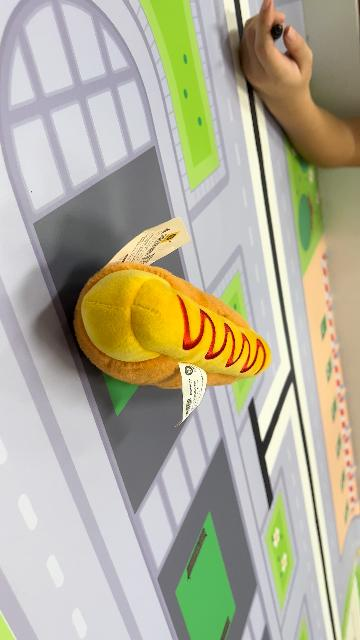hotdog: (74, 261, 272, 387)
